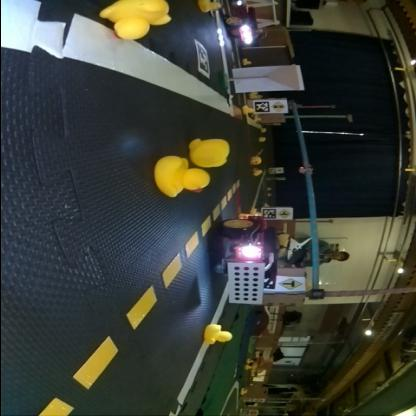Duckie: (101, 1, 171, 40), (152, 156, 209, 196), (190, 138, 230, 166), (204, 324, 232, 342), (198, 0, 221, 12), (252, 156, 262, 164), (242, 106, 252, 114), (254, 168, 262, 175)
Duckiebot: (217, 215, 277, 305)
Intersection sign: (278, 277, 300, 287), (278, 208, 290, 218)
QR code: (194, 38, 209, 78), (256, 101, 270, 111), (264, 207, 275, 218)
Signal sign: (272, 100, 286, 112)
